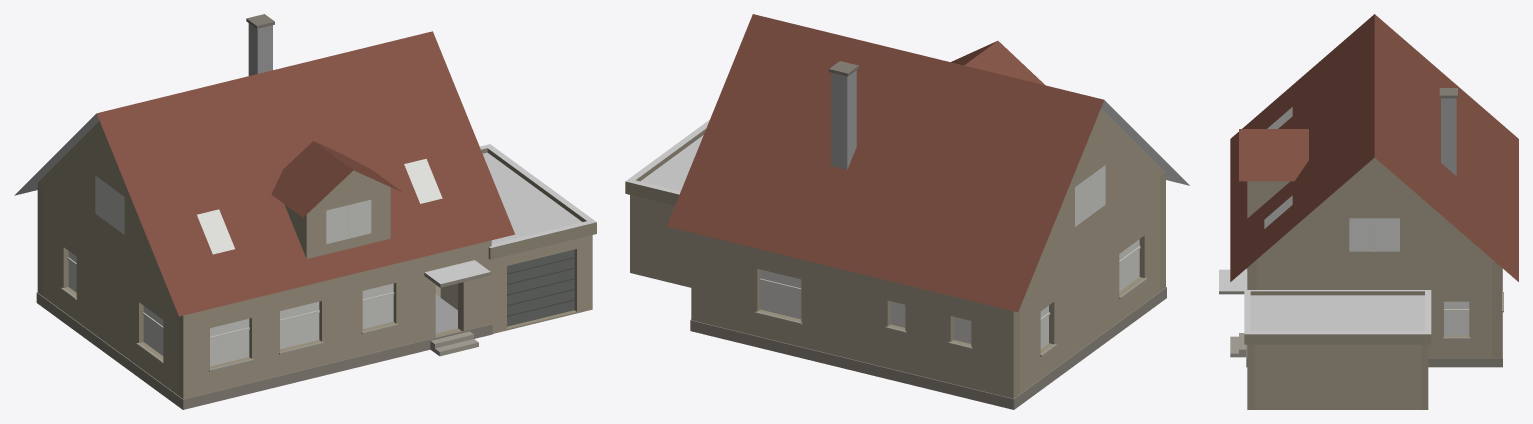
The model's file is dom-90.pbr.glb.
The picture shows the model from 3 angles, left to right: view 1: azimuth 30°, elevation 25°; view 2: azimuth 150°, elevation 25°; view 3: azimuth 270°, elevation 25°; orthographic projection. The views are drawn at different scales.
Parts seen in each view (by area): view 1: dom-90; view 2: dom-90; view 3: dom-90.
Part boxes in pixels (x1,y1,x2,y2): dom-90: (14,14,596,409); dom-90: (625,14,1189,409); dom-90: (1219,14,1518,409).
Bounding box in the file's own units: 15.2 × 8.8 × 10.6.
